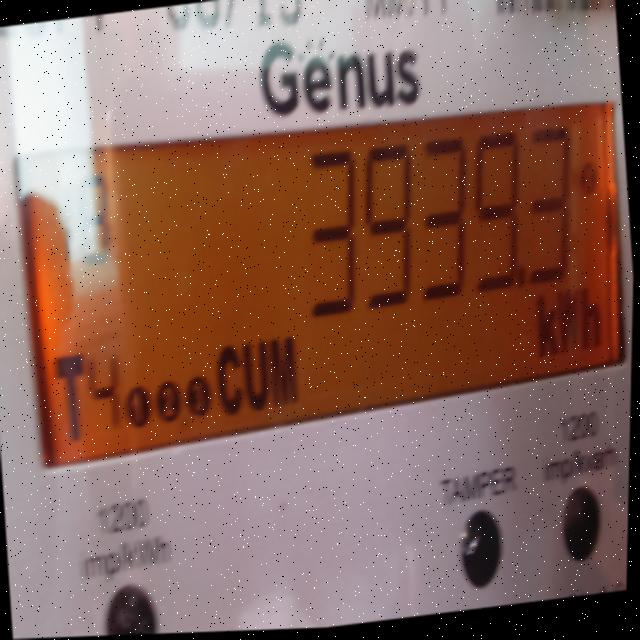.: (515, 262, 537, 309)
3: (296, 143, 372, 332), (413, 135, 480, 318), (518, 121, 585, 301)
9: (354, 135, 429, 325), (463, 132, 531, 304)
